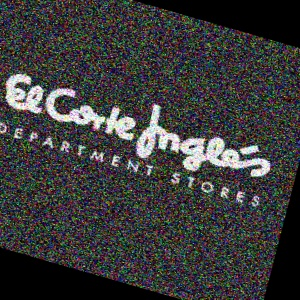corte_ingles: (259, 92, 300, 187)
